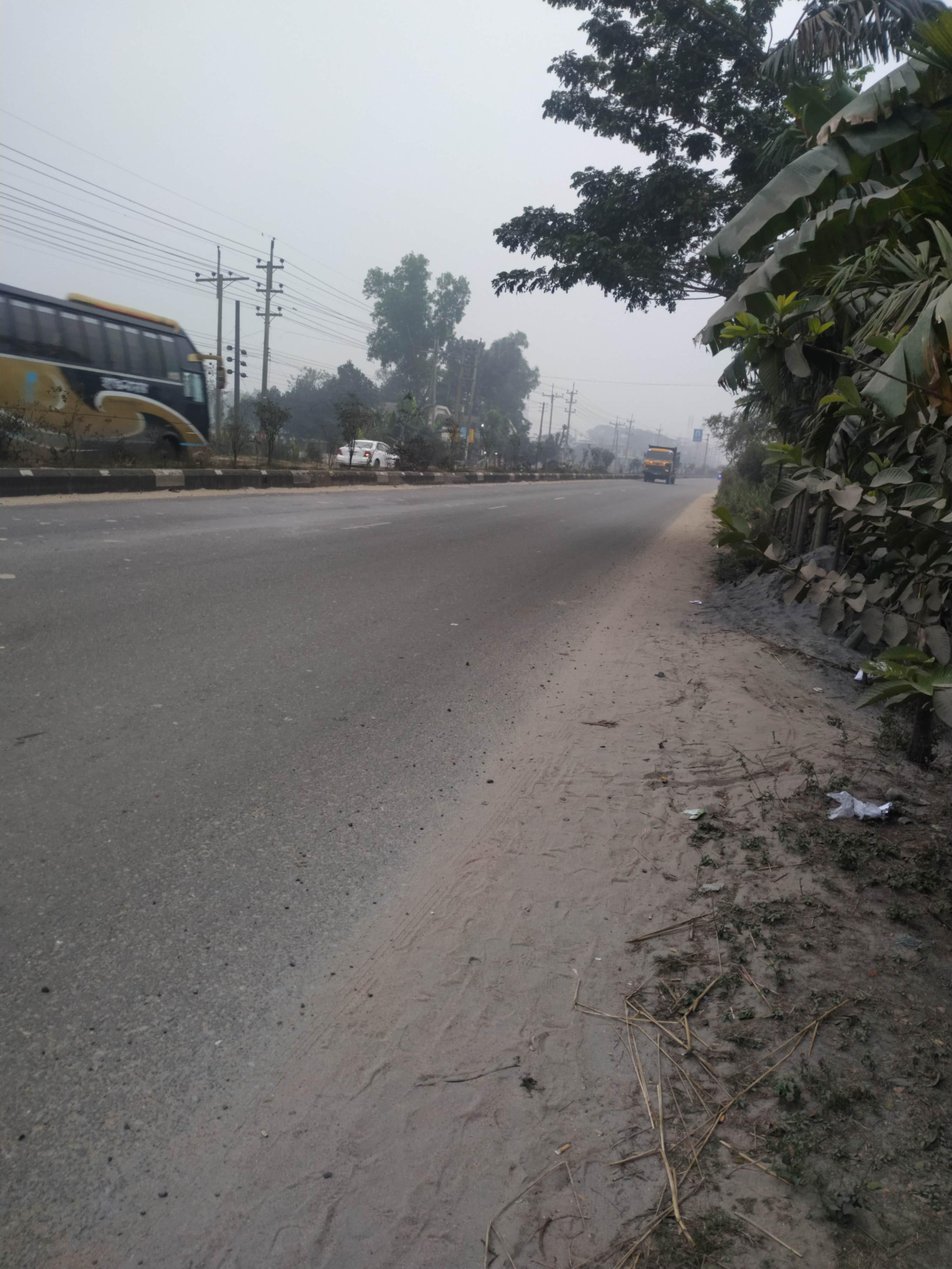Bus: (4, 260, 250, 490)
Car: (328, 420, 423, 477)
Truck: (621, 439, 701, 496)
